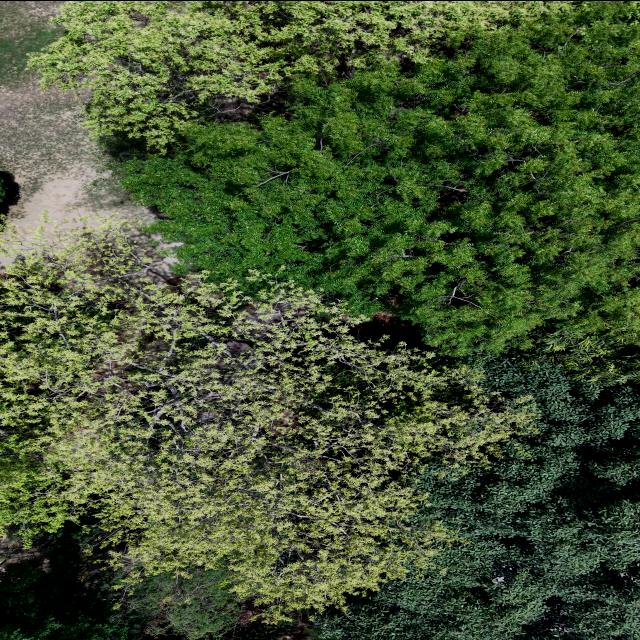DRY_AREA: (0, 1, 153, 236)
VEGETATION_TREE: (0, 1, 639, 639), (0, 232, 527, 616), (123, 4, 639, 353), (317, 356, 639, 639), (30, 1, 570, 146), (0, 522, 308, 639), (0, 556, 130, 639), (0, 422, 70, 545), (122, 568, 242, 639), (504, 329, 639, 385), (0, 171, 19, 229), (230, 624, 291, 639), (0, 175, 6, 202)
